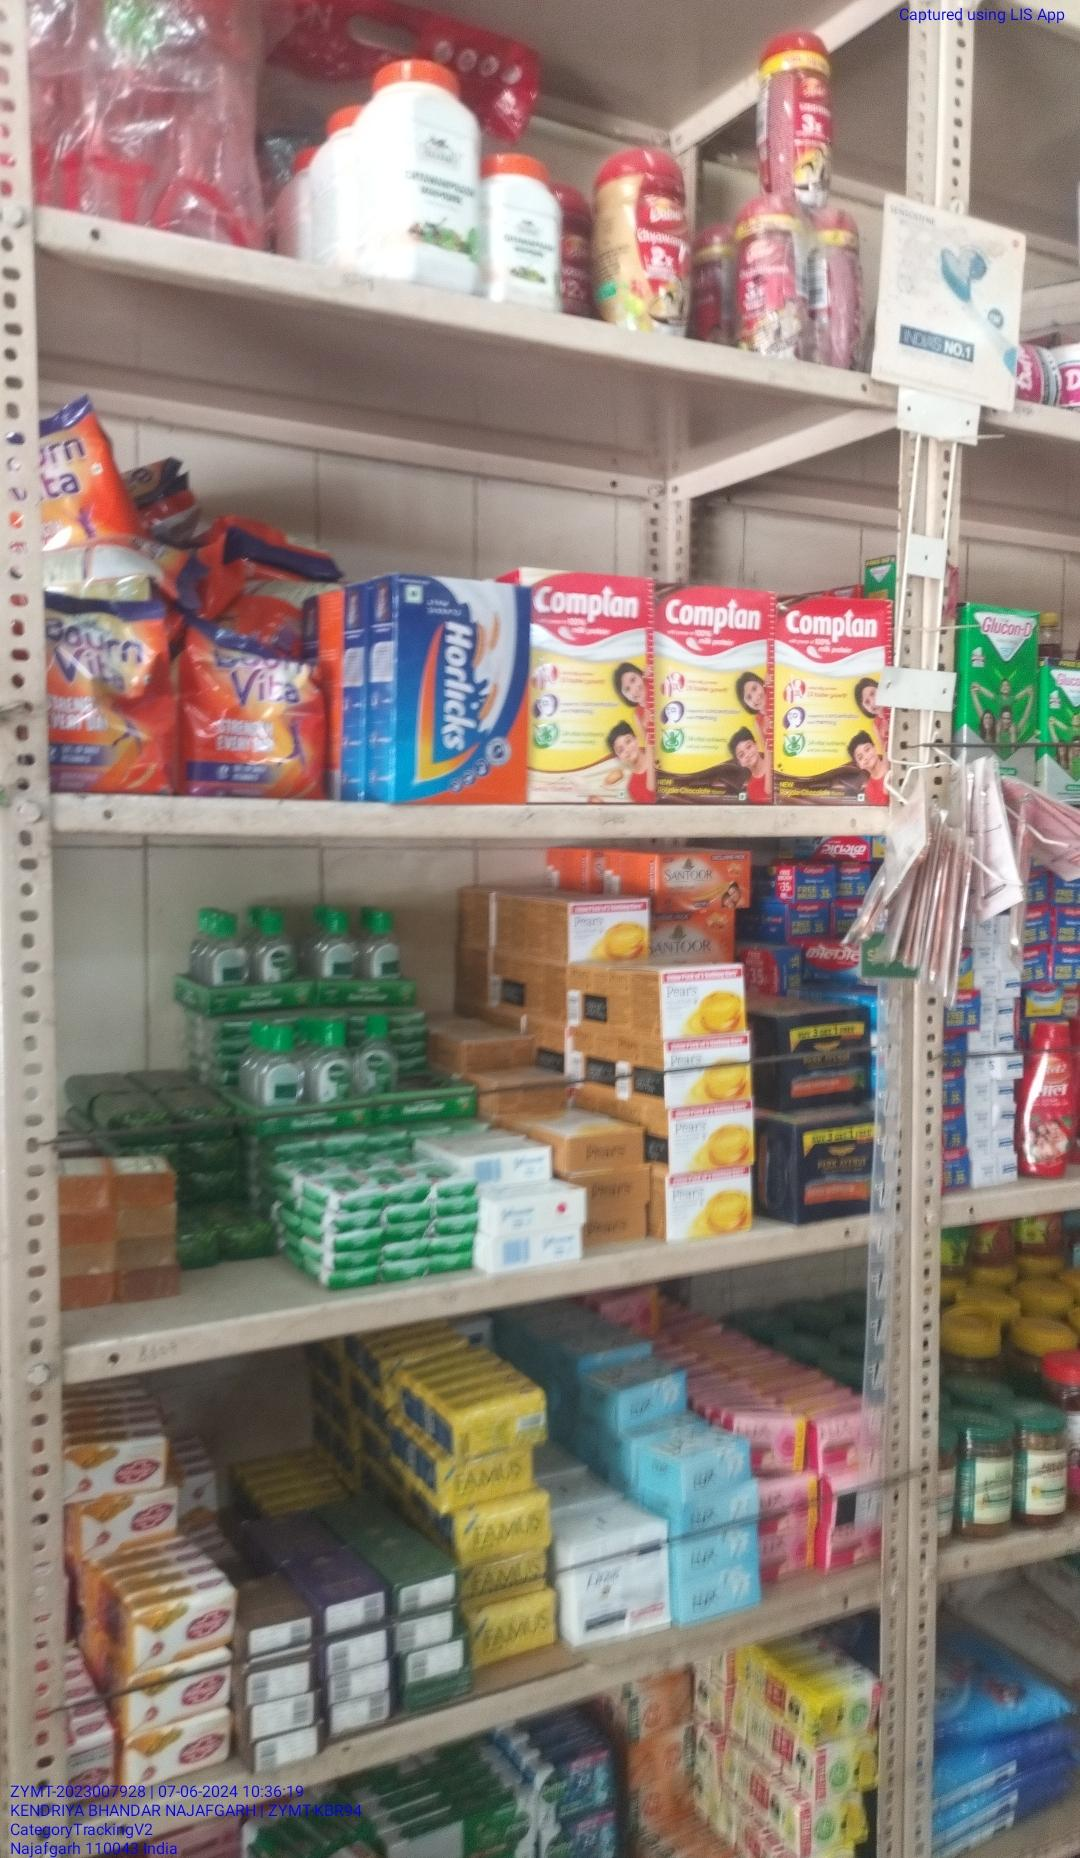COMPLAN_KESAR_BADAM_500_GMS_PACK: (534, 567, 653, 806)
